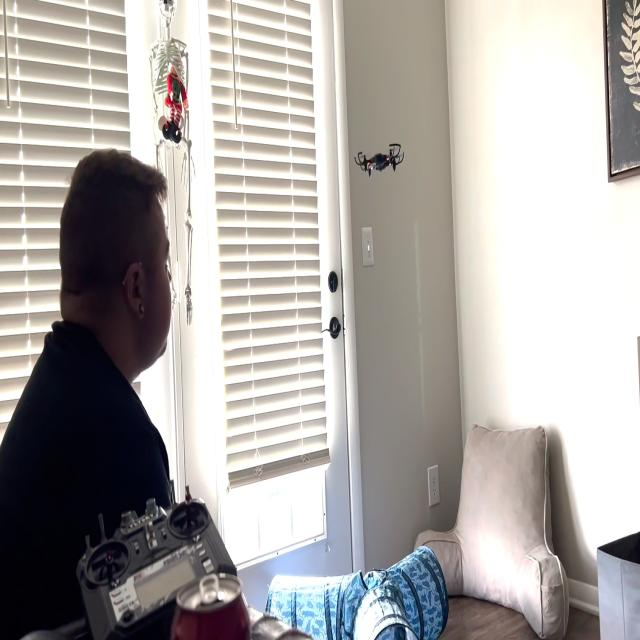drone: (347, 131, 410, 178)
